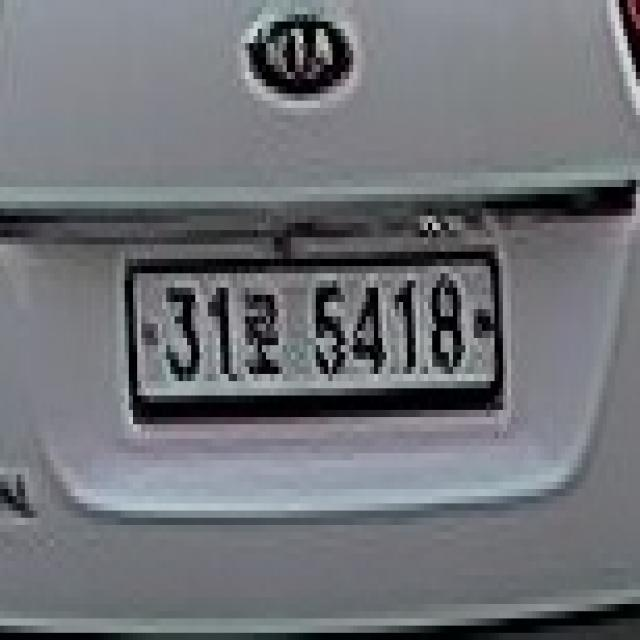1: (204, 288, 232, 388), (395, 273, 420, 374)
3: (158, 281, 204, 388)
4: (349, 280, 387, 374)
5: (307, 281, 345, 381)
8: (428, 266, 466, 374)
license_plate: (125, 230, 507, 417)
lo: (241, 288, 283, 381)
